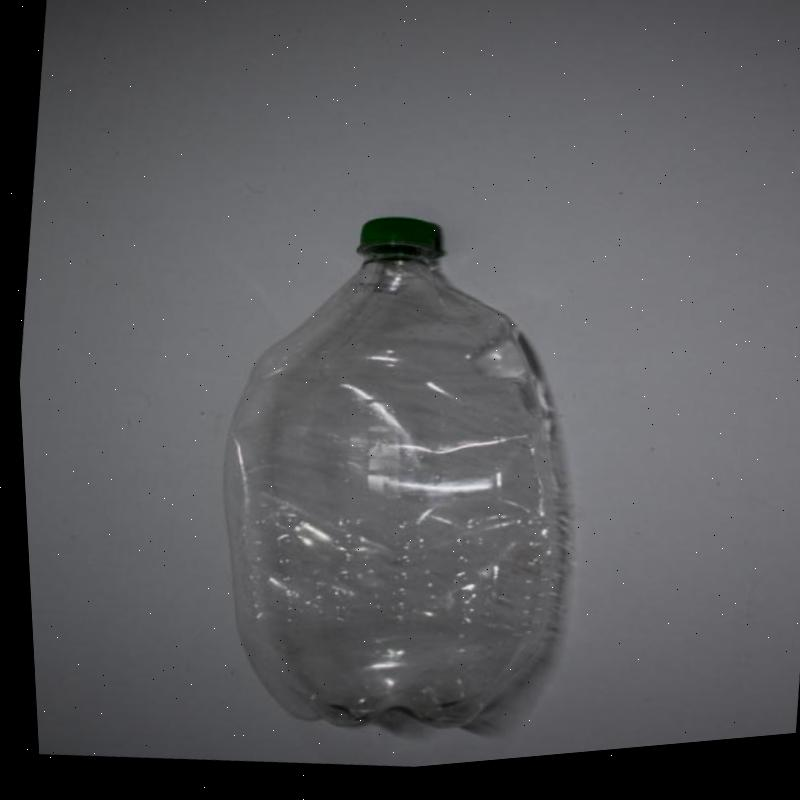botella: (176, 191, 617, 774)
